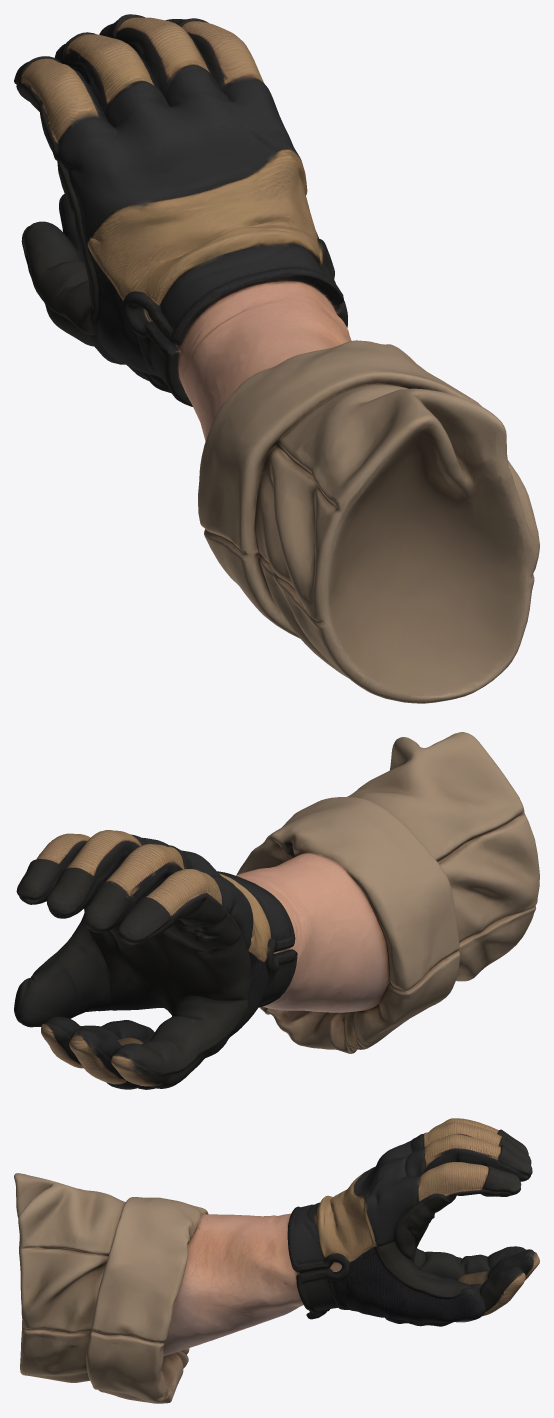
File: prop_handL-65E3XPPI.glb
3 views of the same model, one above another, from view 1: azimuth 30°, elevation 25°; view 2: azimuth 150°, elevation 25°; view 3: azimuth 270°, elevation 25° (orthographic). The views are drawn at different scales.
Size of the model in its own units: 0.4151 by 0.5653 by 1.
1 material, 1 textured.
